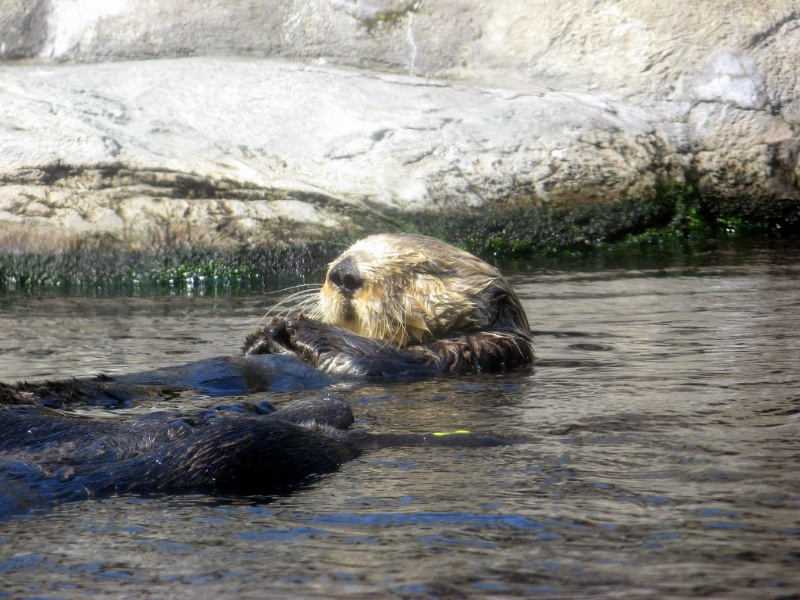minkish: (231, 229, 544, 387)
